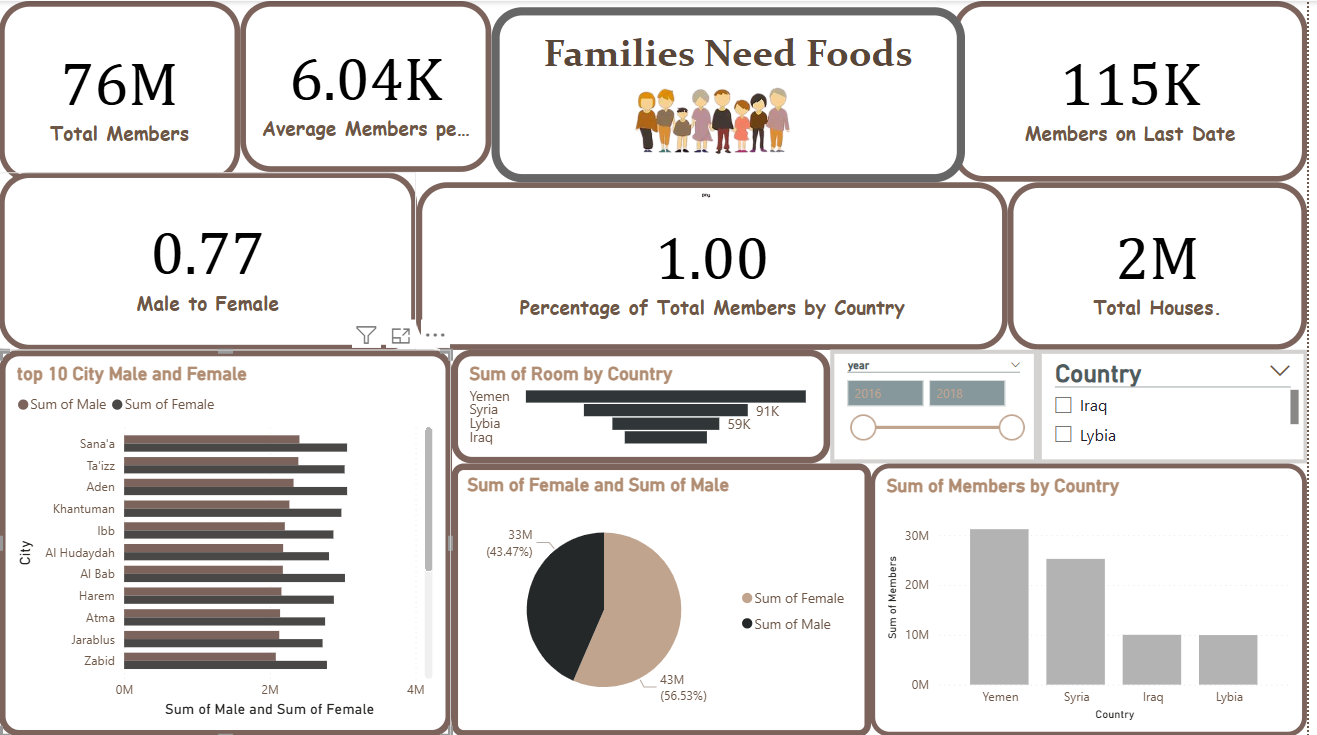

Layout of this report page (visuals, bound fields, positions):
{"tool":"powerbi","page":{"name":"Food","canvas":[1280,720],"ordinal":2},"visuals":[{"type":"card","fields":{"Values":["Food.Total Members"]},"box":[0,0,235.7,177.1],"z":0},{"type":"card","fields":{"Values":["Food.Male to Female"]},"box":[0,167.1,408.6,174.3],"z":1000},{"type":"card","fields":{"Values":["Food.Average Members per Place"]},"box":[235.7,0,245.7,167.1],"z":2000},{"type":"card","fields":{"Values":["Food.Total Houses."]},"box":[987.1,177.1,292.9,164.3],"z":3000},{"type":"card","fields":{"Values":["Food.Members on Last Date"]},"box":[932.9,0,347.1,177.1],"z":4000},{"type":"card","fields":{"Values":["Food.Percentage of Total Members by Country"]},"box":[408.6,177.1,578.6,164.3],"z":5000},{"type":"slicer","fields":{"Values":["Food.Country"]},"box":[1015.7,341.4,264.3,111.4],"z":6000},{"type":"slicer","fields":{"Values":["Food.year"]},"box":[812.9,341.4,202.9,111.4],"z":7000},{"type":"clusteredBarChart","title":"top 10  City Male and Female ","fields":{"Category":["Food.City"],"Y":["Sum(Food.Male)","Sum(Food.Female)"]},"box":[0,341.4,442.9,378.6],"z":8000},{"type":"lineClusteredColumnComboChart","fields":{"Category":["Food.Country"],"Y":["Sum(Food.Members)"]},"box":[852.9,452.9,427.1,267.1],"z":9000},{"type":"pieChart","fields":{"Y":["Sum(Food.Female)","Sum(Food.Male)"]},"box":[442.9,452.9,410,267.1],"z":10000},{"type":"textbox","box":[481.4,5.7,462.9,171.4],"z":11000},{"type":"image","box":[578.6,31.4,240,170],"z":12000},{"type":"funnel","fields":{"Category":["Food.Country"],"Y":["Sum(Food.Room)"]},"box":[442.9,341.4,370,111.4],"z":13000}]}

Visuals, with their boxes in screenshot pixels (x1, y1, x2, y2), scaled from the page's 1280x720 canvas onto the 1317x735 screenshot:
card - Food.Total Members: bbox(0, 0, 243, 181)
card - Food.Male to Female: bbox(0, 171, 420, 349)
card - Food.Average Members per Place: bbox(243, 0, 495, 171)
card - Food.Total Houses.: bbox(1016, 181, 1316, 349)
card - Food.Members on Last Date: bbox(960, 0, 1316, 181)
card - Food.Percentage of Total Members by Country: bbox(420, 181, 1016, 349)
slicer - Food.Country: bbox(1045, 349, 1316, 462)
slicer - Food.year: bbox(836, 349, 1045, 462)
"top 10  City Male and Female " clusteredBarChart: bbox(0, 349, 456, 734)
lineClusteredColumnComboChart - Food.Country x Sum(Food.Members): bbox(878, 462, 1316, 734)
pieChart - Sum(Food.Female) x Sum(Food.Male): bbox(456, 462, 878, 734)
textbox: bbox(495, 6, 972, 181)
image: bbox(595, 32, 842, 206)
funnel - Food.Country x Sum(Food.Room): bbox(456, 349, 836, 462)
